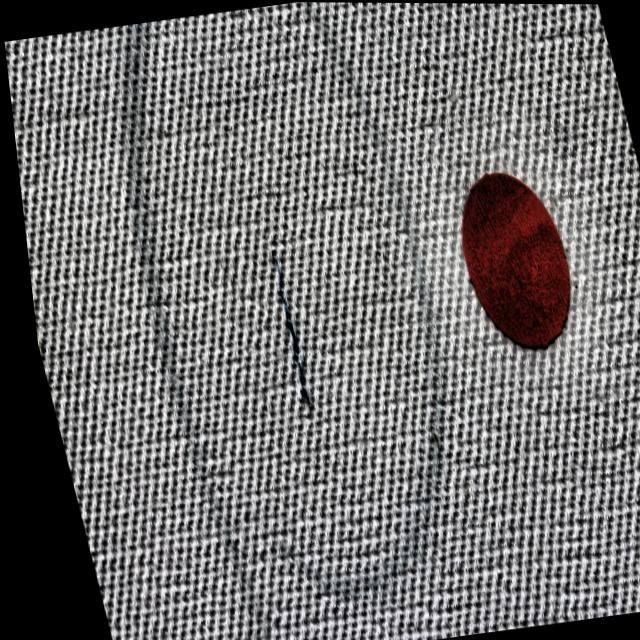Hole: (238, 235, 328, 442)
